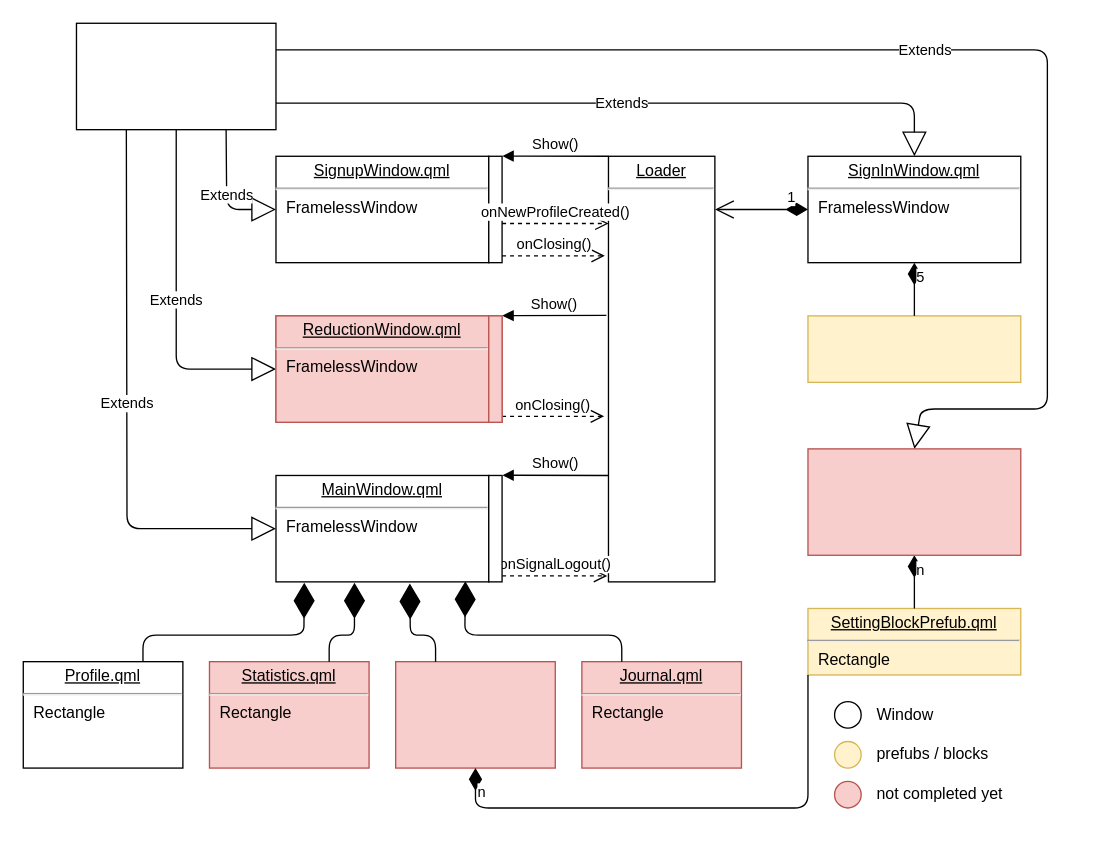
The diagram is 1095 pixels wide and 853 high, and some of its shapes have lost their labels. The centre of each missing label's shape, as x and y in pixels:
"AuthBlockPrefub.qml Rectangle" belongs at (914,348).
"FramelessWindow.qml ApplicationWindow" belongs at (175,76).
"GlobalSettingWindow.qml FramelessWindow" belongs at (914,501).
"Setting.qml Rectangle" belongs at (474,714).
